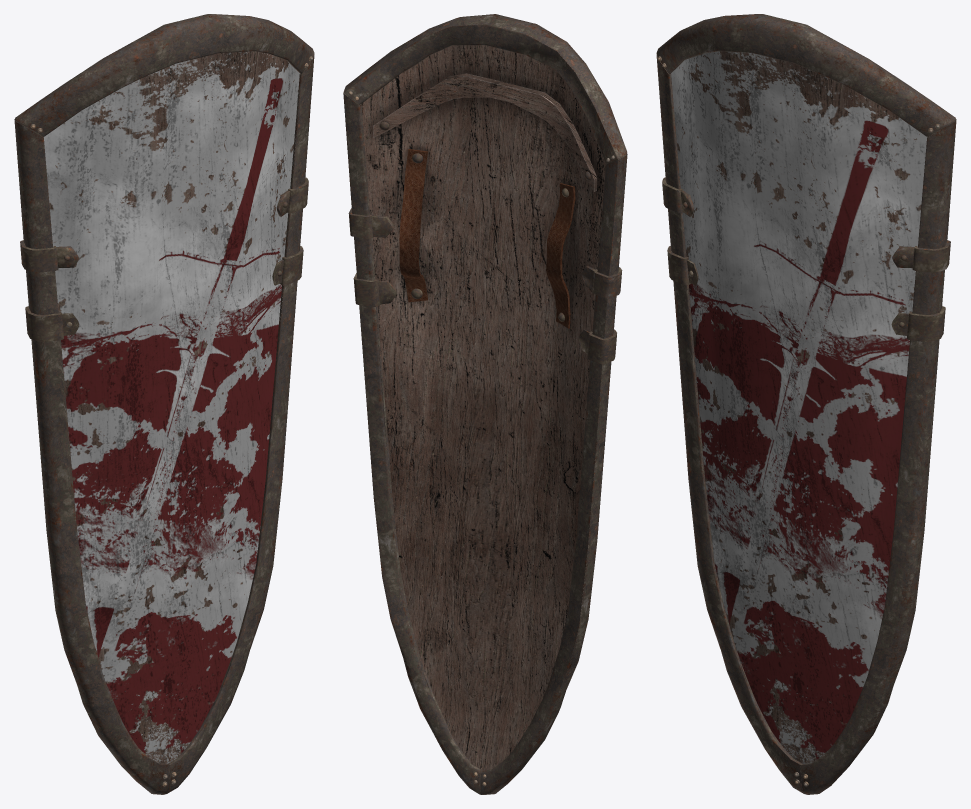
Rendered from kite_shield.glb.
The picture shows the model from 3 angles, left to right: view 1: azimuth 30°, elevation 25°; view 2: azimuth 150°, elevation 25°; view 3: azimuth 330°, elevation 25°; orthographic projection. The views are drawn at different scales.
Parts seen in each view (by area): view 1: kite_shield_body, kite_shield_metal_trim, kite_shield_clamps_and_bolts; view 2: kite_shield_body, kite_shield_metal_trim, kite_shield_clamps_and_bolts; view 3: kite_shield_body, kite_shield_metal_trim, kite_shield_clamps_and_bolts.
Boxes of the visible parts, x1,y1,x2,y2 form: kite_shield_body: [43, 51, 299, 764]; kite_shield_metal_trim: [14, 14, 314, 794]; kite_shield_clamps_and_bolts: [20, 56, 312, 786]; kite_shield_body: [361, 24, 606, 770]; kite_shield_metal_trim: [343, 14, 627, 794]; kite_shield_clamps_and_bolts: [348, 91, 622, 785]; kite_shield_body: [671, 51, 927, 763]; kite_shield_metal_trim: [656, 14, 956, 794]; kite_shield_clamps_and_bolts: [658, 56, 950, 786].
Bounding box in the file's own units: 0.5433 × 1.39 × 0.1347.
2 materials, 2 textured.
